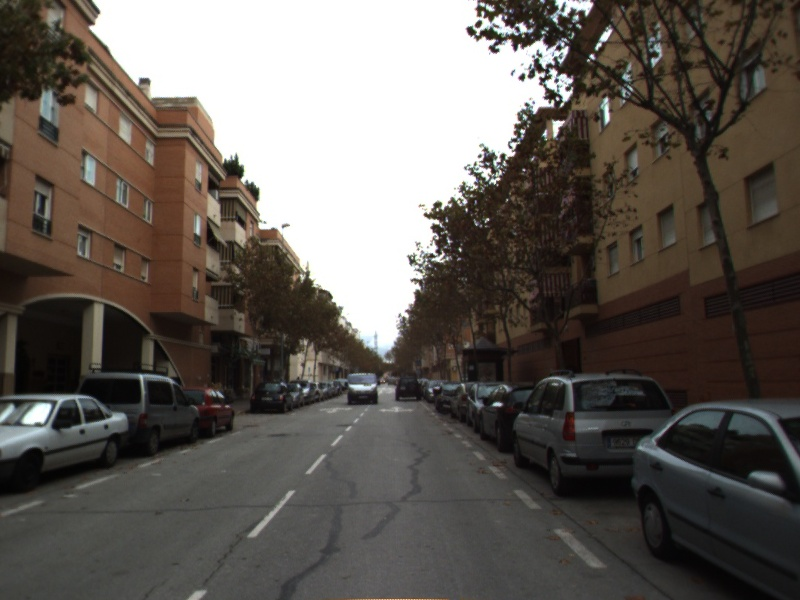STRAIGHT_LEFT_RIGHT: (376, 403, 417, 415)
